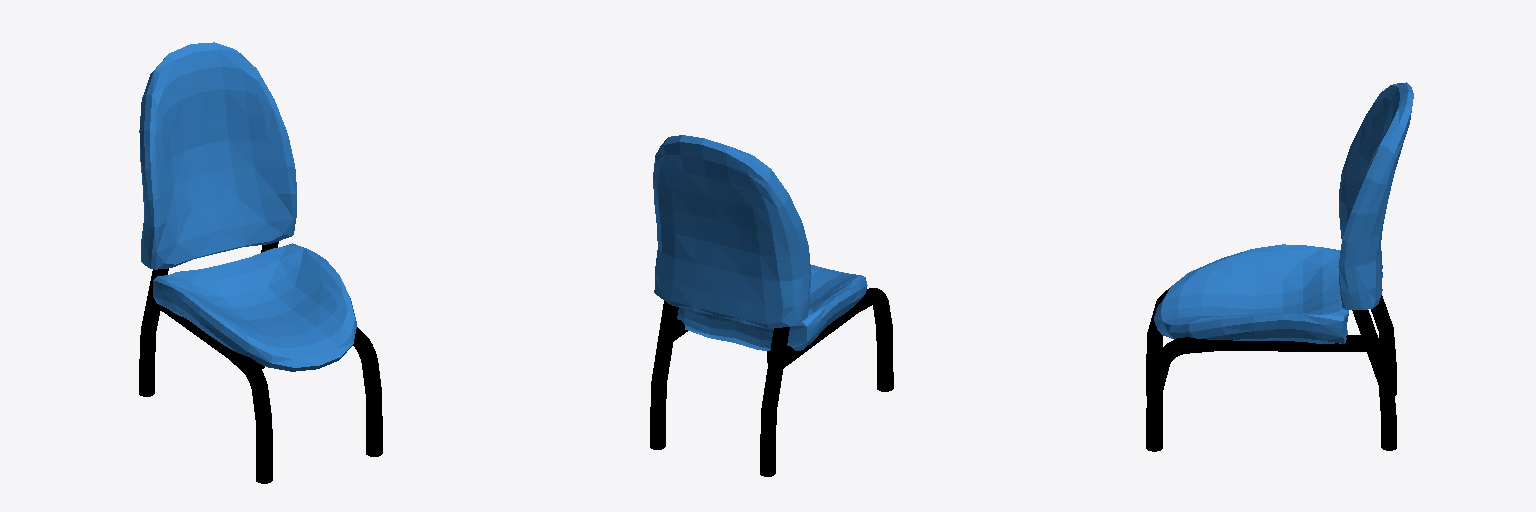
3 views of the same model, side by side, from view 1: azimuth 30°, elevation 25°; view 2: azimuth 150°, elevation 25°; view 3: azimuth 270°, elevation 25° (orthographic).
Parts seen in each view (by area): view 1: Box001, seat, Cylinder002, Cylinder003, Cylinder001; view 2: Box001, seat, Cylinder002, Cylinder001, Cylinder004; view 3: seat, Box001, Cylinder003, Cylinder004, Cylinder001, Cylinder002.
Boxes of the visible parts, box(x1,y1,x2,y2) form: Box001: box(139, 42, 296, 269); seat: box(153, 243, 356, 371); Cylinder002: box(150, 295, 272, 483); Cylinder003: box(353, 327, 382, 456); Cylinder001: box(139, 268, 168, 396); Box001: box(653, 135, 810, 328); seat: box(677, 264, 867, 350); Cylinder002: box(784, 288, 893, 391); Cylinder001: box(760, 327, 789, 476); Cylinder004: box(650, 301, 678, 449); seat: box(1154, 244, 1348, 343); Box001: box(1338, 82, 1413, 309); Cylinder003: box(1146, 335, 1368, 451); Cylinder004: box(1352, 310, 1396, 450); Cylinder001: box(1371, 295, 1396, 395); Cylinder002: box(1146, 288, 1169, 395).
Bounding box in the file's own units: 50.92 × 108 × 79.6.
Materials: 2 (2 with a texture image).